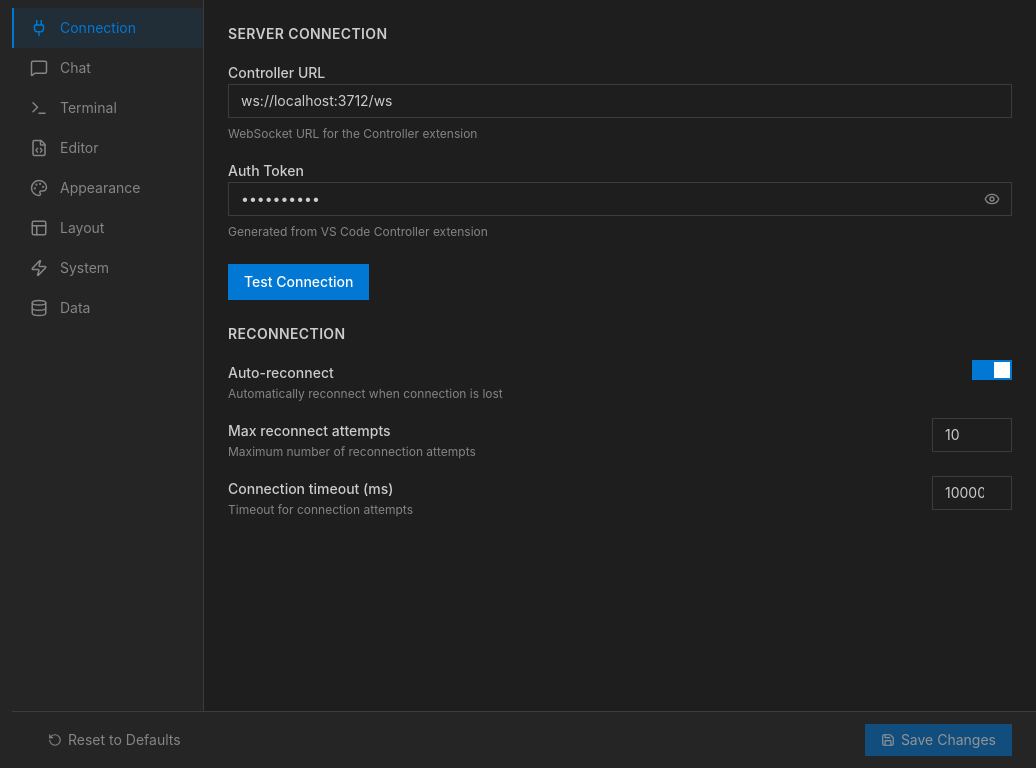
Test case: SettingsEditor › should switch between categories
Click on Terminal category
Step 1. Click the button "Terminal" → (108, 108), box [12,88,203,128]
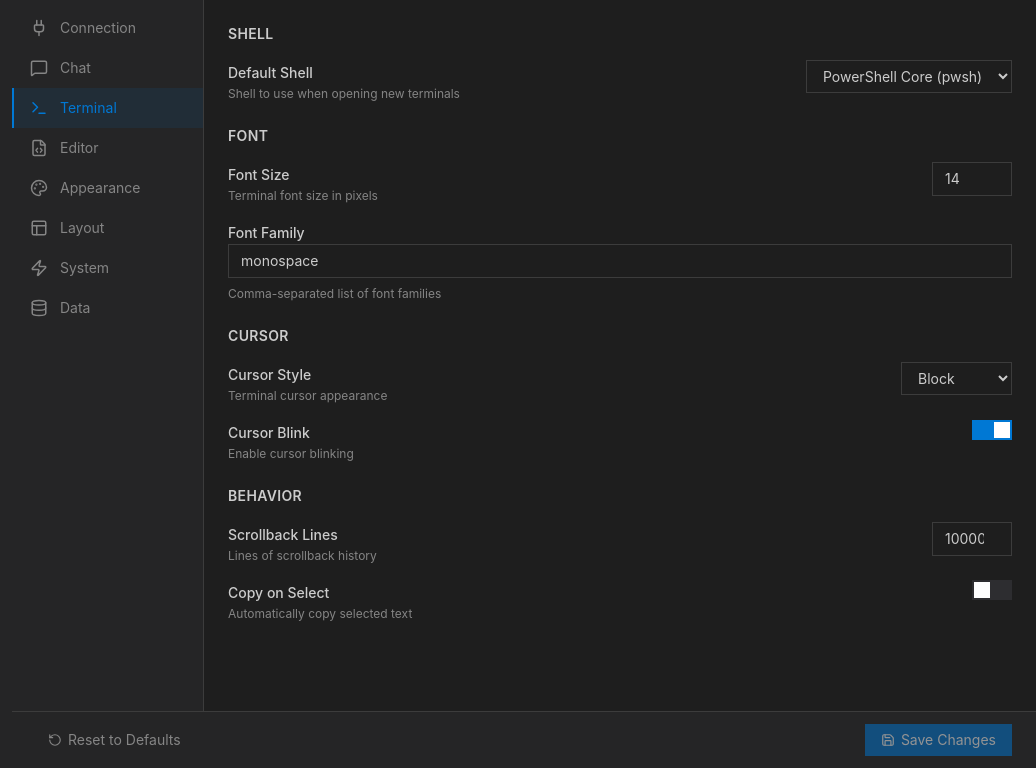
Expected: the text "Default Shell" is shown, [228,64,313,81]
